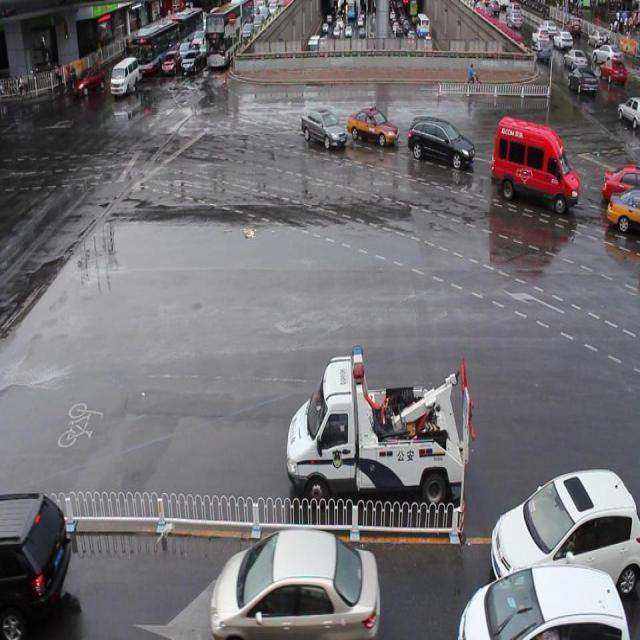car: (288, 351, 471, 522), (197, 511, 389, 640), (487, 490, 640, 584), (455, 573, 631, 640), (494, 106, 574, 240), (420, 101, 468, 185), (298, 105, 348, 172), (347, 102, 400, 154), (108, 55, 143, 101), (75, 63, 102, 97)
